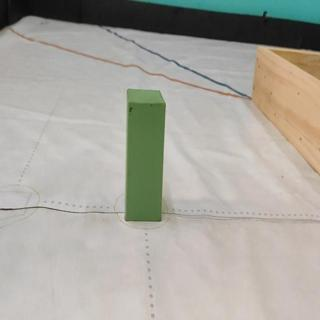greenbox: (125, 87, 167, 221)
